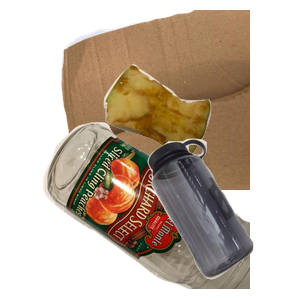cardboard: (43, 10, 283, 190)
glass: (41, 120, 281, 300)
plastic: (145, 136, 300, 300)
trash: (101, 62, 300, 217)
